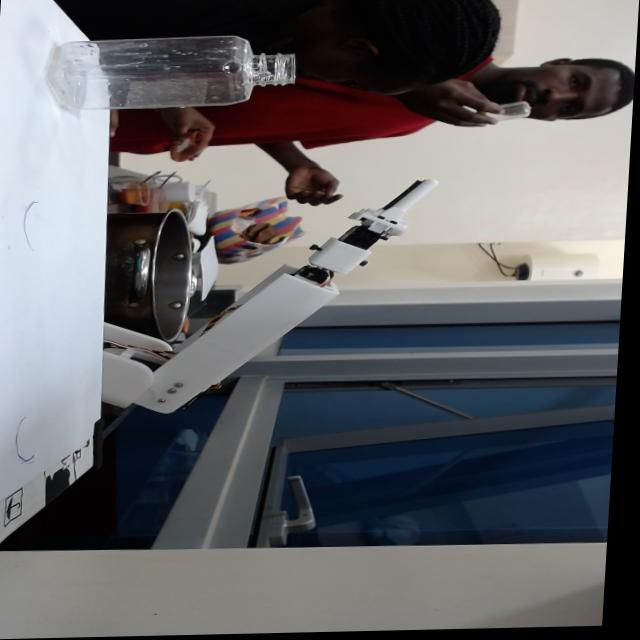cooking_pot: (105, 209, 200, 343)
